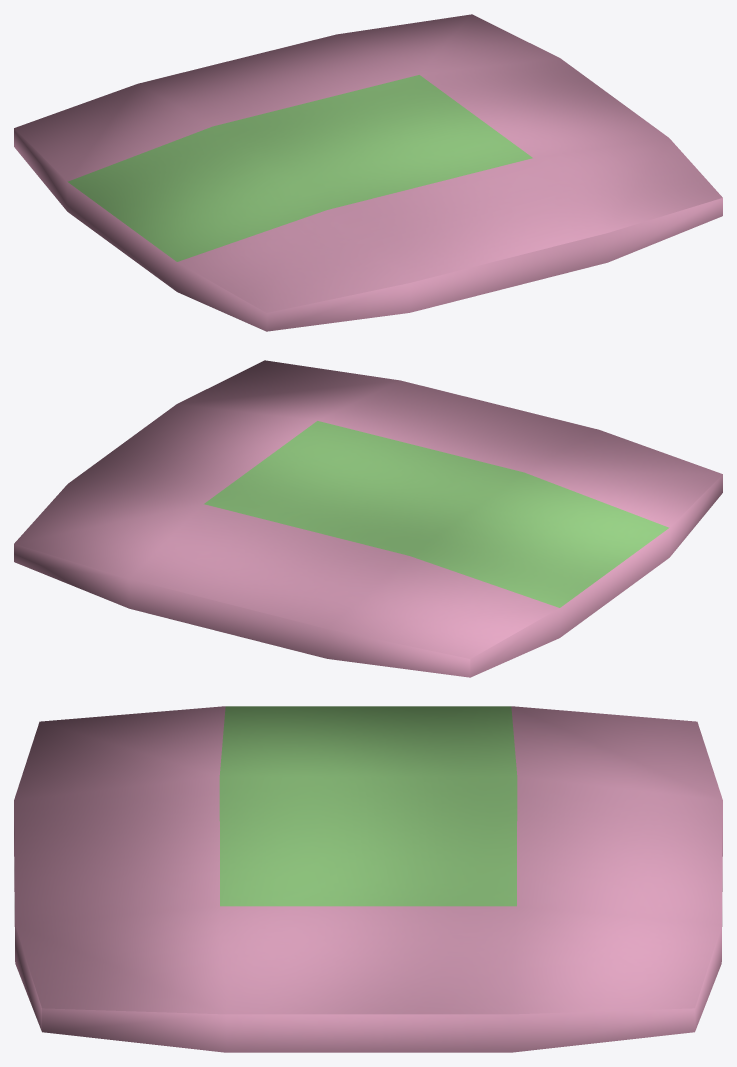
File: flower_b.glb
3 renders of one model, top to bottom at view 1: azimuth 30°, elevation 25°; view 2: azimuth 150°, elevation 25°; view 3: azimuth 270°, elevation 25°, orthographic. The views are drawn at different scales.
Parts seen in each view (by area): view 1: lod0; view 2: lod0; view 3: lod0.
Part boxes in pixels (left/top/right/bottom): lod0: left=14, top=14, right=722, bottom=331; lod0: left=14, top=360, right=722, bottom=677; lod0: left=14, top=706, right=722, bottom=1052.
Size of the model in its own units: 0.134 by 0.0127 by 0.1282.
1 material, 1 textured.
